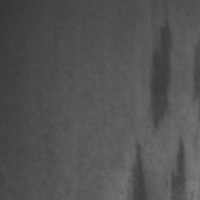inclusion: (147, 11, 176, 136), (163, 133, 194, 199), (128, 136, 149, 199)
